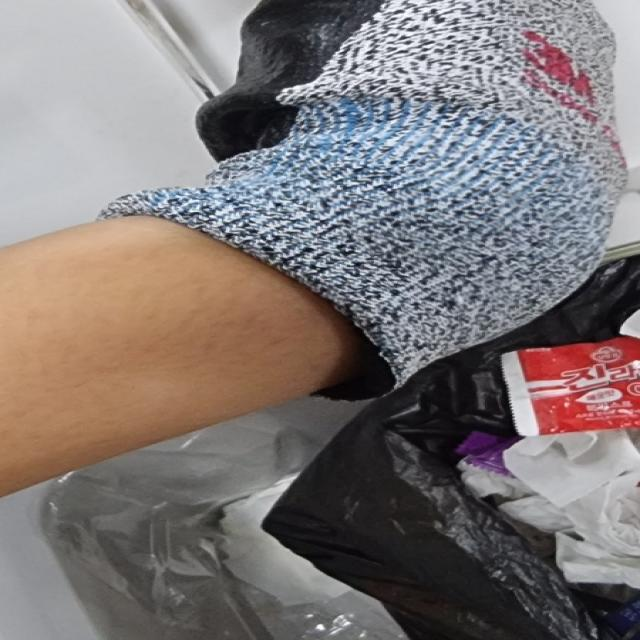Gloves: (95, 2, 640, 404)
